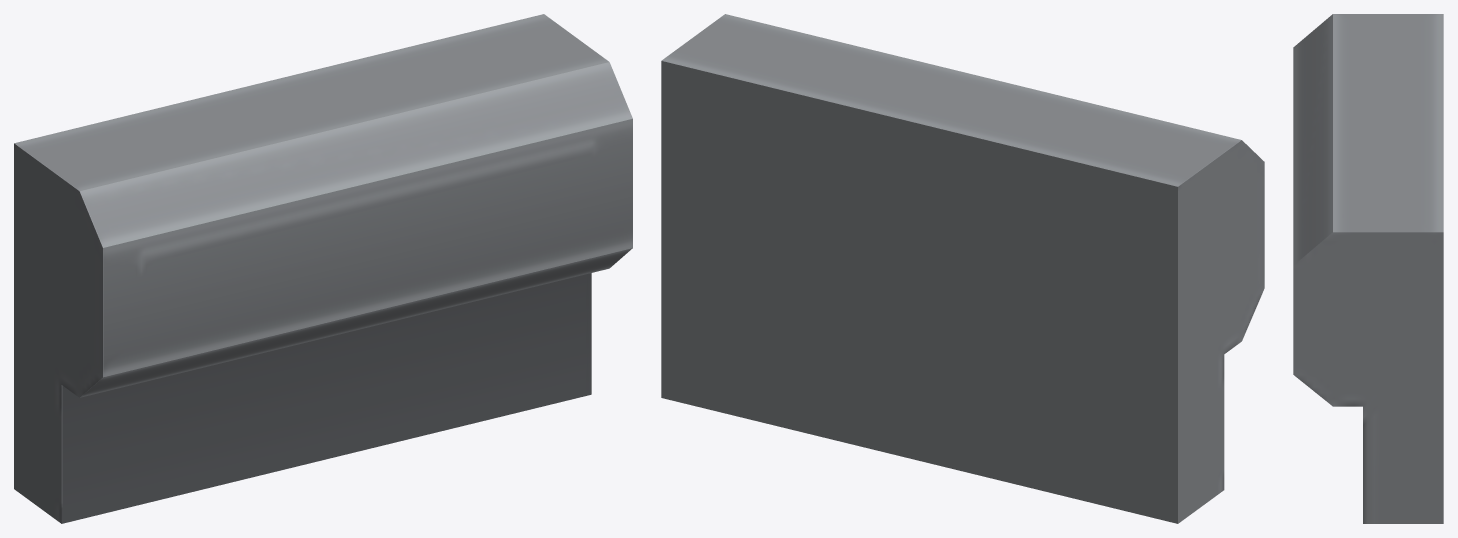
Rendered from SM_Laboratory_Wall_Door.fbx.
The picture shows the model from 3 angles, left to right: view 1: azimuth 30°, elevation 25°; view 2: azimuth 150°, elevation 25°; view 3: azimuth 270°, elevation 25°; orthographic projection. The views are drawn at different scales.
Parts seen in each view (by area): view 1: SM_Laboratory_Wall_Door; view 2: SM_Laboratory_Wall_Door; view 3: SM_Laboratory_Wall_Door.
Boxes of the visible parts, bbox=[...] form: SM_Laboratory_Wall_Door: bbox=[14, 14, 632, 523]; SM_Laboratory_Wall_Door: bbox=[661, 14, 1264, 523]; SM_Laboratory_Wall_Door: bbox=[1293, 14, 1443, 523].
Size of the model in its own units: 140 by 87.28 by 40.69.
1 material, 1 textured.
